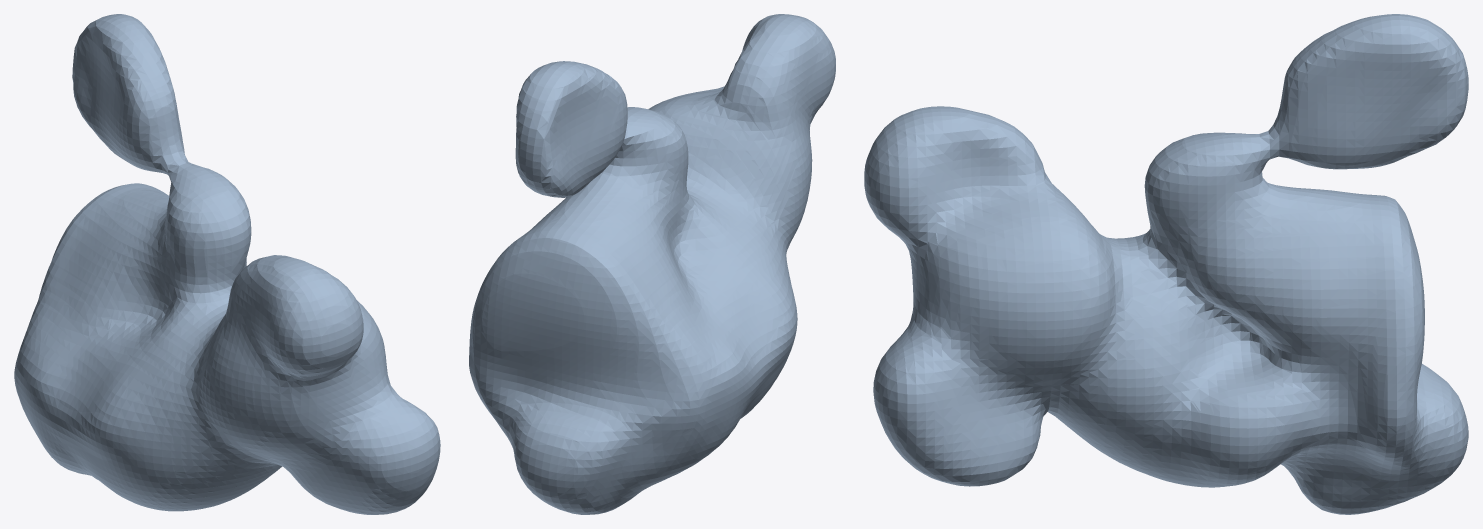
3 renders of one model, left to right at view 1: azimuth 30°, elevation 25°; view 2: azimuth 150°, elevation 25°; view 3: azimuth 270°, elevation 25°, orthographic. The views are drawn at different scales.
Parts seen in each view (by area): view 1: koala_motorbike_mesh; view 2: koala_motorbike_mesh; view 3: koala_motorbike_mesh.
Boxes of the visible parts, x1=… form: koala_motorbike_mesh: x1=14, y1=14, x2=440, y2=514; koala_motorbike_mesh: x1=469, y1=14, x2=835, y2=514; koala_motorbike_mesh: x1=864, y1=14, x2=1468, y2=514.
Size of the model in its own units: 0.2796 by 0.4868 by 0.5272.
